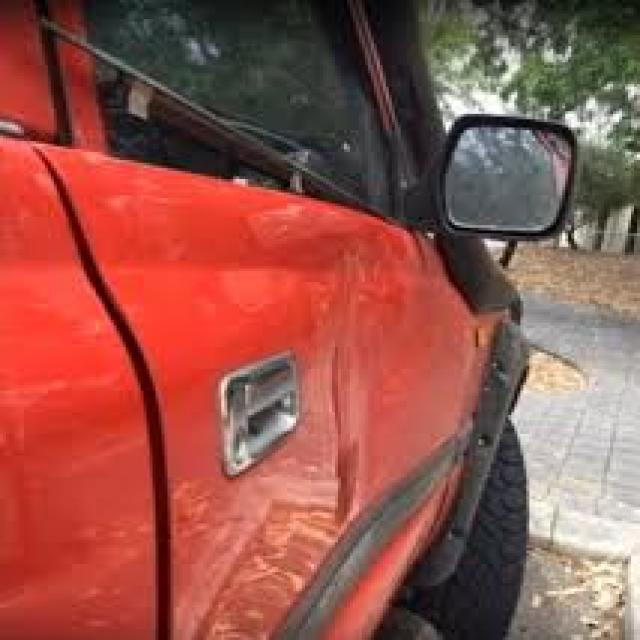minor: (136, 340, 434, 625)
